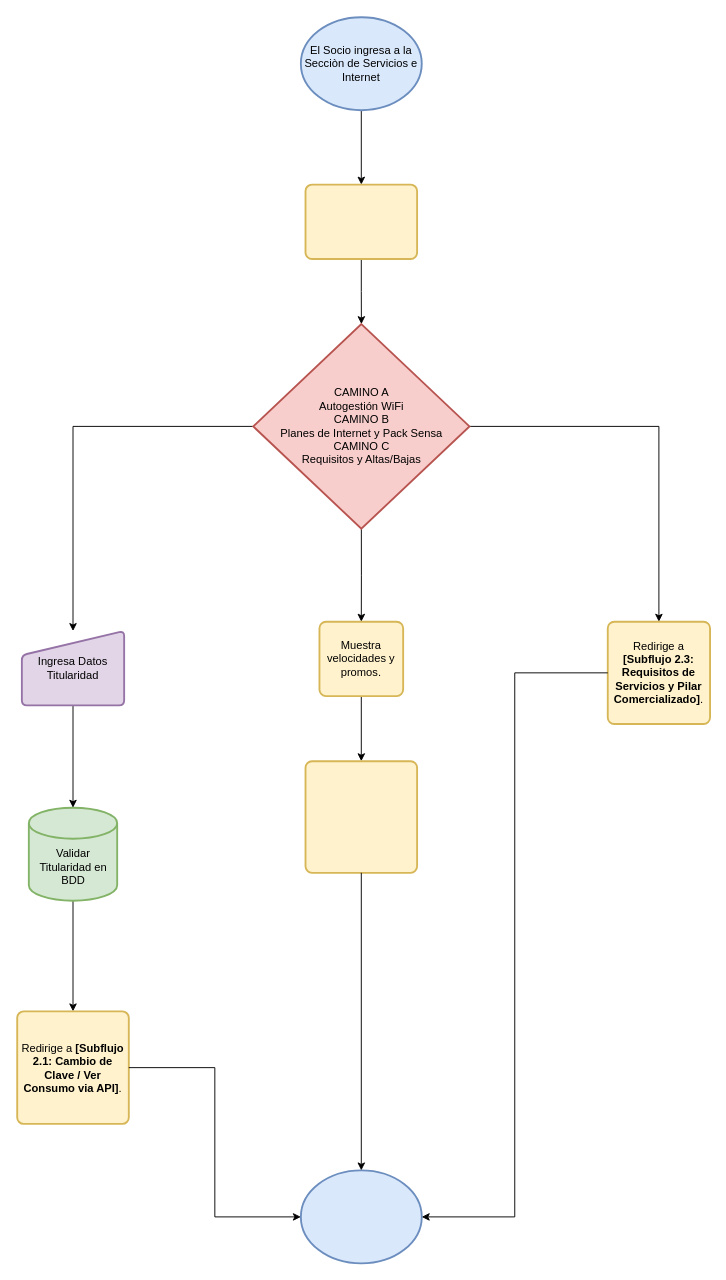
Image size: 726x1280. Some labels were removed from this diagram. The box of each missing label's shape, as (x1, y1, x2, y2) in pixels:
Fin/Volver al menu principal: (299, 1169, 422, 1264)
Menú de Servicios: (304, 183, 418, 259)
Redirige a [Subflujo 2.2: Selección de Plan / Solicitud de Cambio de Equipo] .: (304, 760, 418, 873)
